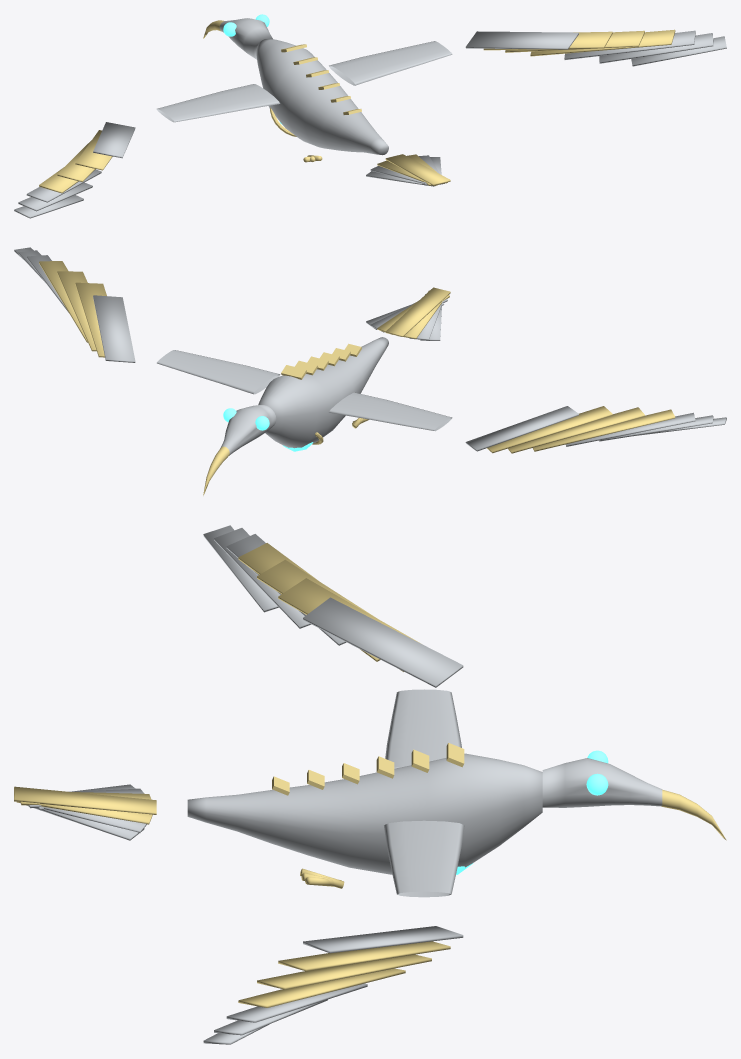
The model's file is cyber_falcon.glb.
3 renders of one model, top to bottom at view 1: azimuth 30°, elevation 25°; view 2: azimuth 150°, elevation 25°; view 3: azimuth 270°, elevation 25°, orthographic. The views are drawn at different scales.
Parts seen in each view (by area): view 1: Falcon_Fuselage, Falcon_WingR_Vanes, Falcon_WingL_Vanes, Falcon_WingR_Inner, Falcon_WingL_Inner, Falcon_Tail_Stabilizer, Falcon_Head; view 2: Falcon_Fuselage, Falcon_WingL_Vanes, Falcon_WingR_Vanes, Falcon_WingR_Inner, Falcon_Tail_Stabilizer, Falcon_WingL_Inner, Falcon_Head; view 3: Falcon_Fuselage, Falcon_WingL_Vanes, Falcon_WingR_Vanes, Falcon_WingR_Inner, Falcon_Head, Falcon_Tail_Stabilizer, Falcon_WingL_Inner.
Part boxes in pixels (left/top/right/bottom): Falcon_Fuselage: left=256, top=39, right=388, bottom=155; Falcon_WingR_Vanes: left=465, top=29, right=726, bottom=66; Falcon_WingL_Vanes: left=14, top=122, right=135, bottom=218; Falcon_WingR_Inner: left=329, top=41, right=452, bottom=85; Falcon_WingL_Inner: left=156, top=84, right=280, bottom=122; Falcon_Tail_Stabilizer: left=366, top=154, right=450, bottom=186; Falcon_Head: left=203, top=18, right=272, bottom=59; Falcon_Fuselage: left=258, top=337, right=388, bottom=448; Falcon_WingL_Vanes: left=465, top=406, right=726, bottom=453; Falcon_WingR_Vanes: left=14, top=247, right=135, bottom=362; Falcon_WingR_Inner: left=157, top=350, right=280, bottom=394; Falcon_Tail_Stabilizer: left=366, top=287, right=450, bottom=340; Falcon_WingL_Inner: left=329, top=392, right=452, bottom=431; Falcon_Head: left=203, top=405, right=276, bottom=495; Falcon_Fuselage: left=187, top=743, right=542, bottom=874; Falcon_WingL_Vanes: left=203, top=525, right=463, bottom=687; Falcon_WingR_Vanes: left=203, top=926, right=463, bottom=1044; Falcon_WingR_Inner: left=384, top=820, right=464, bottom=897; Falcon_Head: left=542, top=758, right=726, bottom=840; Falcon_Tail_Stabilizer: left=14, top=784, right=156, bottom=840; Falcon_WingL_Inner: left=385, top=689, right=461, bottom=768.
Bounding box in the file's own units: 9.82 × 1.1 × 5.72.
